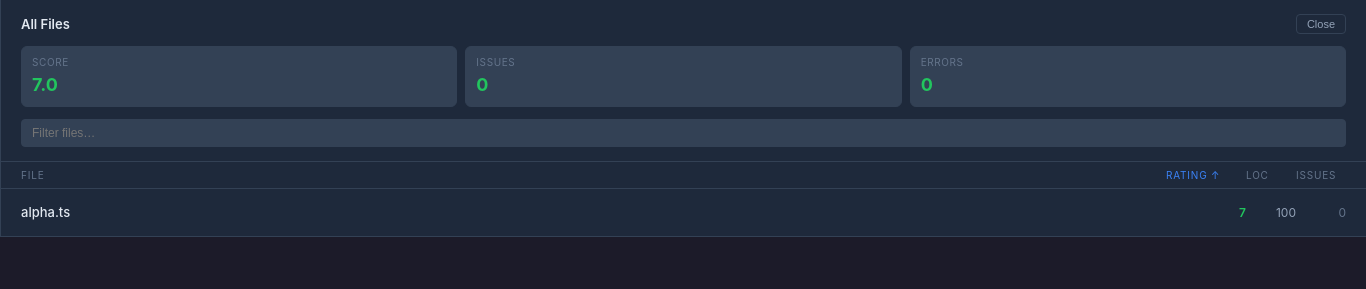
Test: FileListDrawer › shows "No files match your search" when search has no results
Type "zzz" into the field with placeholder "Filter files…".
click(684, 133); type("zzz")  # box top-left (21, 119), bottom-right (1346, 147)
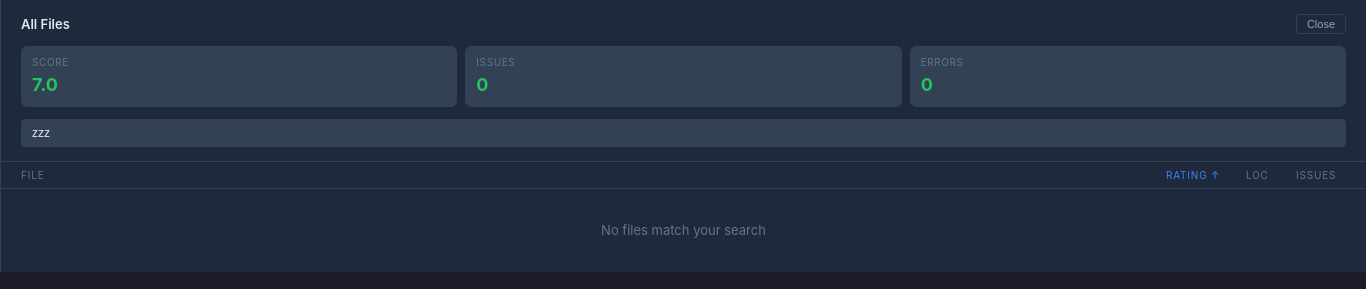
Result: the text "No files match your search" is shown at top-left (601, 222), bottom-right (766, 238)
